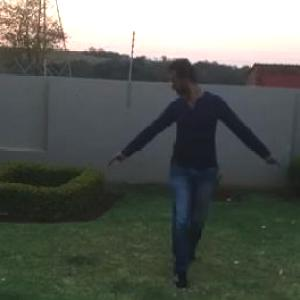land: (105, 48, 293, 293)
